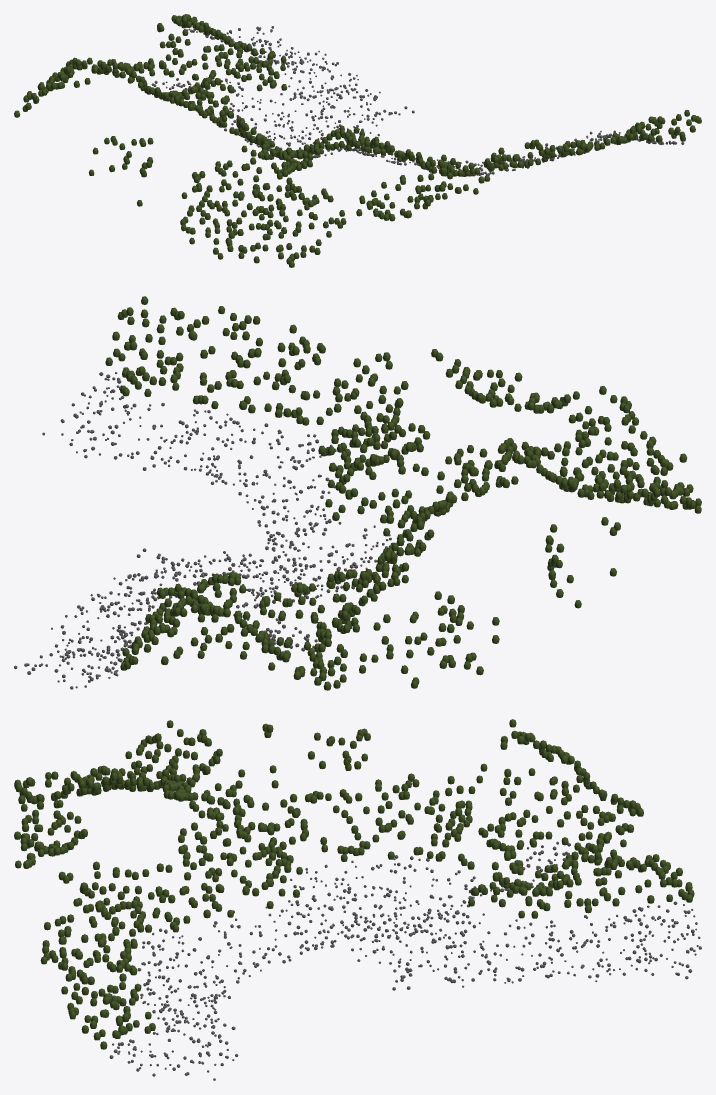
Rendered from végétation.dae.
3 renders of one model, top to bottom at view 1: azimuth 30°, elevation 25°; view 2: azimuth 150°, elevation 25°; view 3: azimuth 270°, elevation 25°, orthographic. The views are drawn at different scales.
Size of the model in its own units: 8.92 by 8.94 by 1.26.
